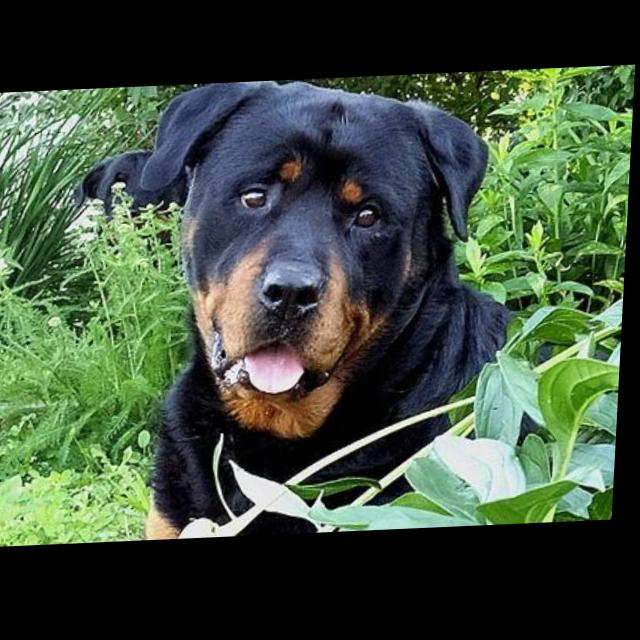rottweiler: (56, 74, 552, 546)
